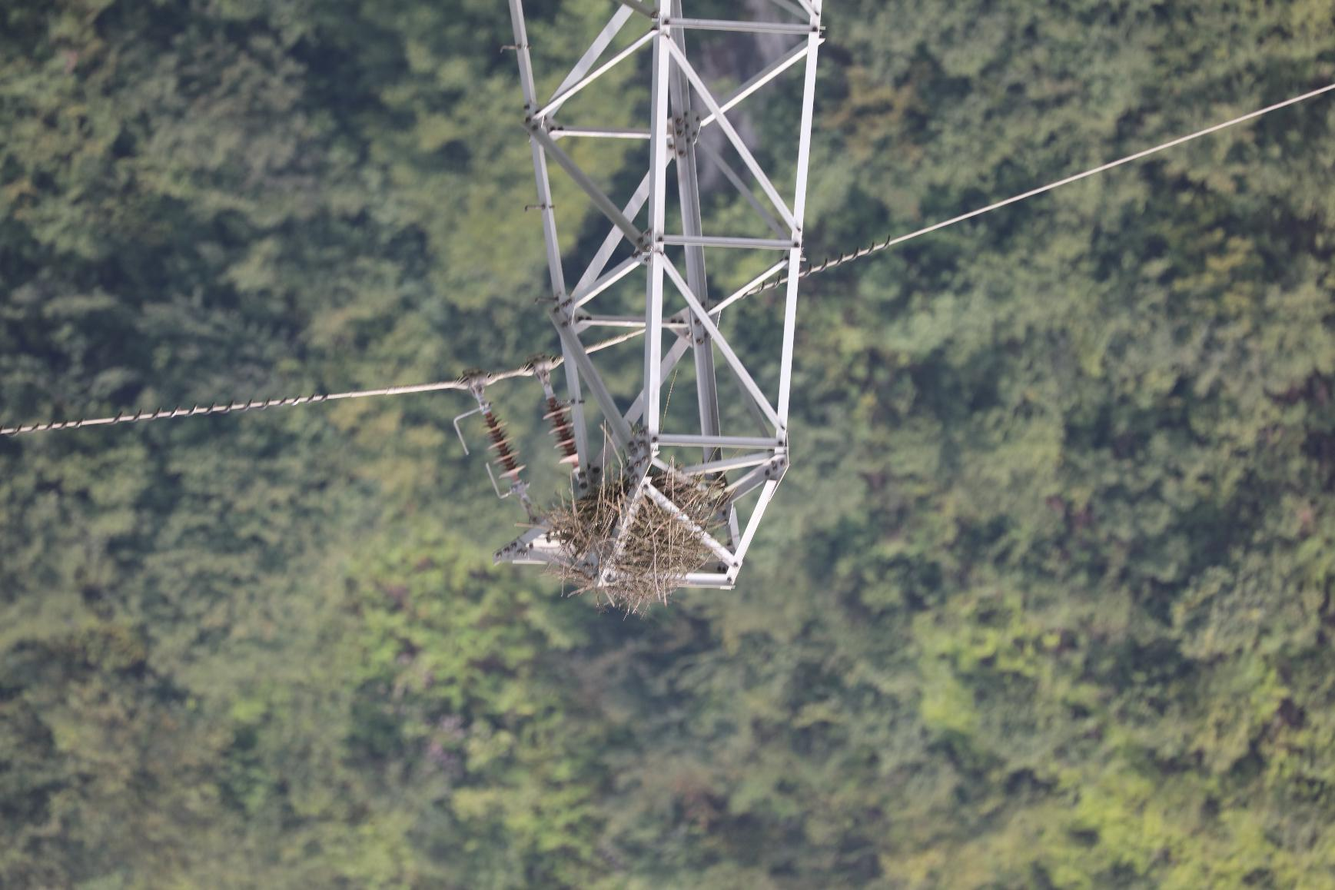nest: (533, 461, 734, 610)
